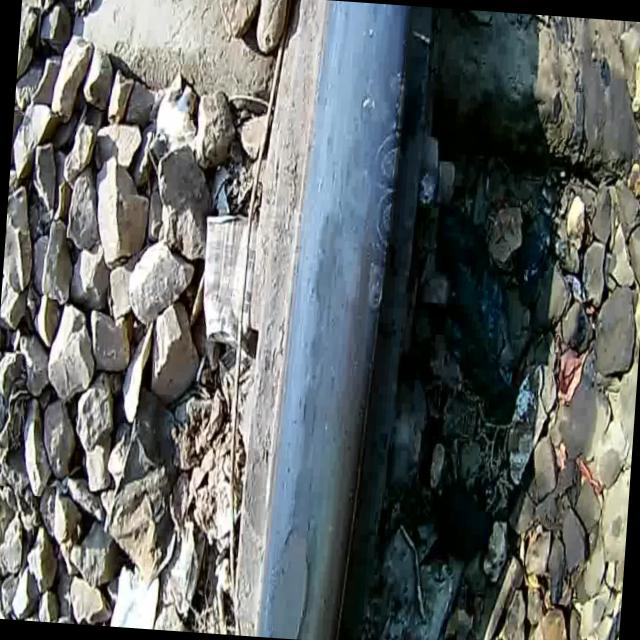Squats: (233, 0, 432, 640)
